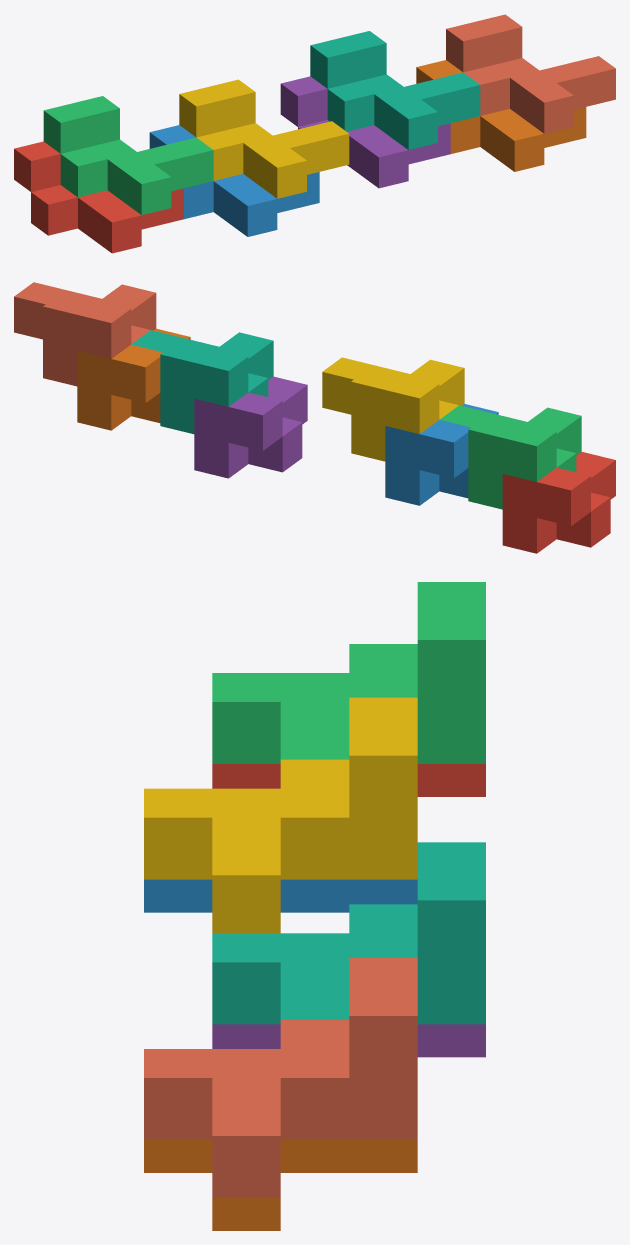
File: tiling.obj
3 renders of one model, top to bottom at view 1: azimuth 30°, elevation 25°; view 2: azimuth 150°, elevation 25°; view 3: azimuth 270°, elevation 25°, orthographic. The views are drawn at different scales.
Visible parts, largest first — view 1: copy_1_domain_3, copy_1_domain_7, copy_1_domain_4, copy_1_domain_8, copy_1_domain_1, copy_1_domain_5, copy_1_domain_6, copy_1_domain_2; view 2: copy_1_domain_8, copy_1_domain_4, copy_1_domain_1, copy_1_domain_5, copy_1_domain_7, copy_1_domain_3, copy_1_domain_6, copy_1_domain_2; view 3: copy_1_domain_8, copy_1_domain_4, copy_1_domain_7, copy_1_domain_3, copy_1_domain_6, copy_1_domain_2, copy_1_domain_5, copy_1_domain_1.
Part boxes in pixels (x1=…): copy_1_domain_3: x1=43, y1=96, x2=213, y2=214; copy_1_domain_7: x1=310, y1=31, x2=480, y2=149; copy_1_domain_4: x1=179, y1=79, x2=349, y2=198; copy_1_domain_8: x1=446, y1=14, x2=615, y2=133; copy_1_domain_1: x1=14, y1=141, x2=183, y2=253; copy_1_domain_5: x1=280, y1=76, x2=450, y2=188; copy_1_domain_6: x1=416, y1=60, x2=586, y2=171; copy_1_domain_2: x1=149, y1=125, x2=319, y2=236; copy_1_domain_8: x1=14, y1=282, x2=156, y2=386; copy_1_domain_4: x1=322, y1=357, x2=464, y2=461; copy_1_domain_1: x1=502, y1=452, x2=615, y2=553; copy_1_domain_5: x1=194, y1=376, x2=307, y2=478; copy_1_domain_7: x1=131, y1=330, x2=273, y2=434; copy_1_domain_3: x1=439, y1=405, x2=581, y2=509; copy_1_domain_6: x1=77, y1=328, x2=190, y2=430; copy_1_domain_2: x1=385, y1=404, x2=498, y2=505; copy_1_domain_8: x1=144, y1=958, x2=417, y2=1197; copy_1_domain_4: x1=144, y1=697, x2=417, y2=933; copy_1_domain_7: x1=212, y1=842, x2=485, y2=1024; copy_1_domain_3: x1=212, y1=582, x2=485, y2=763; copy_1_domain_6: x1=144, y1=1140, x2=417, y2=1230; copy_1_domain_2: x1=144, y1=879, x2=417, y2=912; copy_1_domain_5: x1=212, y1=1024, x2=485, y2=1057; copy_1_domain_1: x1=212, y1=764, x2=485, y2=796.
Size of the model in its own units: 18 by 3 by 5.
